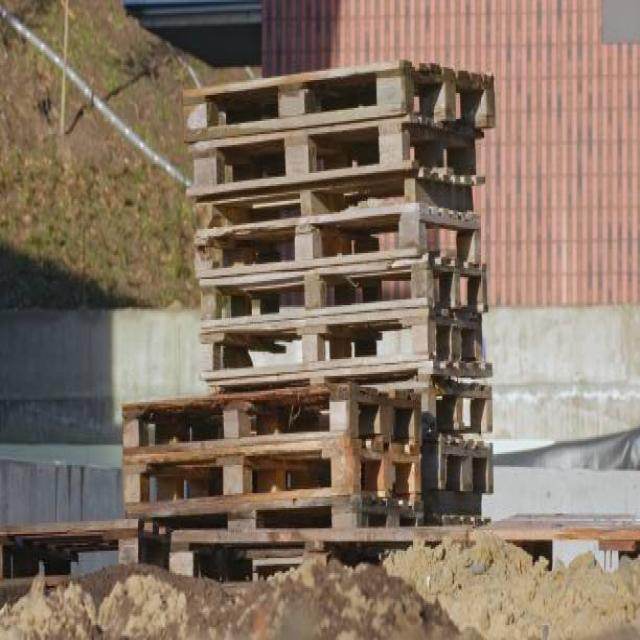Wooden-Pallets: (178, 44, 503, 143), (185, 113, 502, 197), (118, 388, 425, 468), (196, 311, 490, 392), (187, 173, 486, 245), (186, 213, 479, 283), (116, 448, 427, 512), (191, 270, 489, 332)
